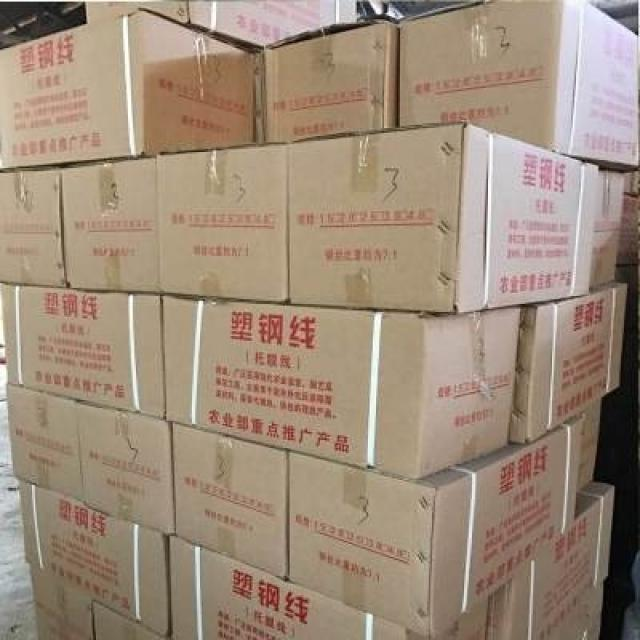box: (163, 294, 522, 479), (289, 416, 583, 638), (290, 121, 598, 314), (0, 7, 254, 171), (399, 0, 638, 172), (168, 535, 427, 638), (18, 477, 171, 636), (2, 284, 166, 419), (156, 141, 290, 303), (486, 481, 614, 638), (173, 421, 293, 580), (509, 282, 627, 443), (264, 23, 399, 142), (63, 153, 160, 293), (76, 400, 175, 535), (86, 1, 357, 50), (0, 164, 76, 287), (6, 384, 84, 503), (30, 566, 97, 638), (589, 170, 626, 288), (533, 582, 603, 638), (93, 600, 171, 638), (576, 399, 602, 492), (436, 594, 488, 638), (254, 49, 266, 141), (35, 613, 77, 638)
